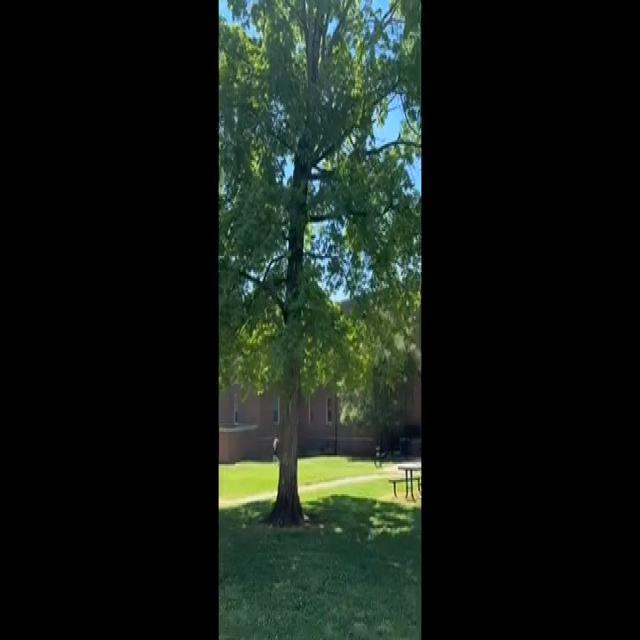drone: (267, 264, 291, 291)
